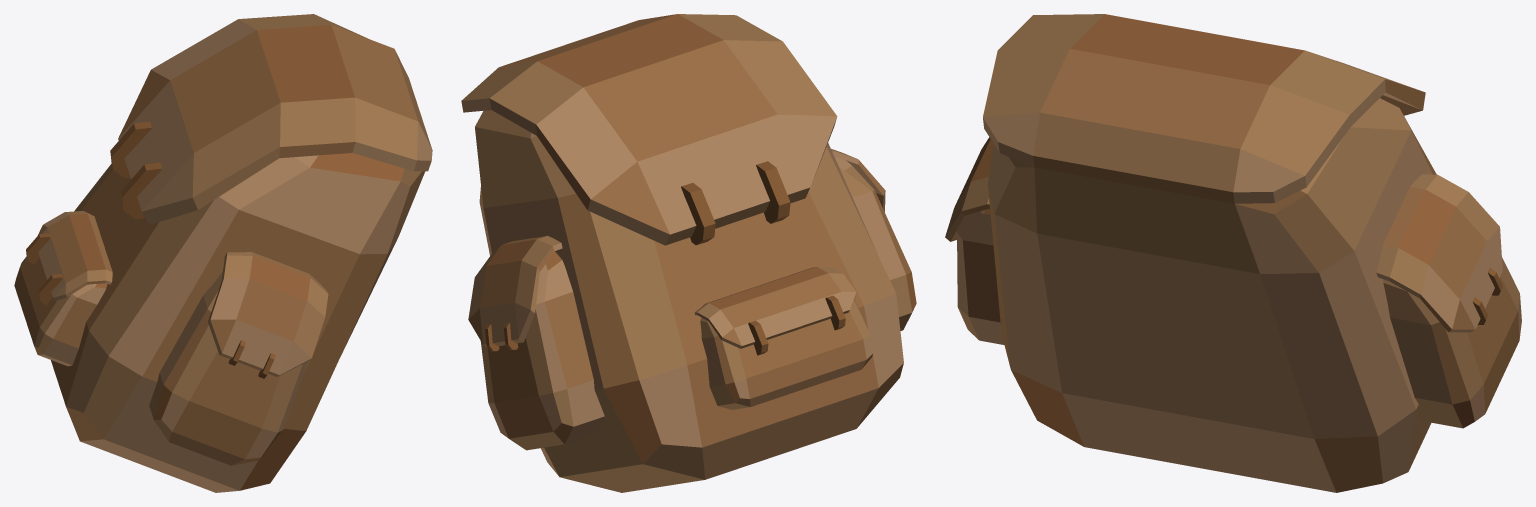
Rendered from bag.fbx.
The picture shows the model from 3 angles, left to right: view 1: azimuth 30°, elevation 25°; view 2: azimuth 150°, elevation 25°; view 3: azimuth 270°, elevation 25°; orthographic projection. The views are drawn at different scales.
Visible parts, largest first — view 1: Circle.003; view 2: Circle.003; view 3: Circle.003.
Part boxes in pixels (x1,y1,x2,y2): Circle.003: (14,14,432,492); Circle.003: (461,14,916,492); Circle.003: (945,14,1521,492).
Bounding box in the file's own units: 661 × 594 × 619.
